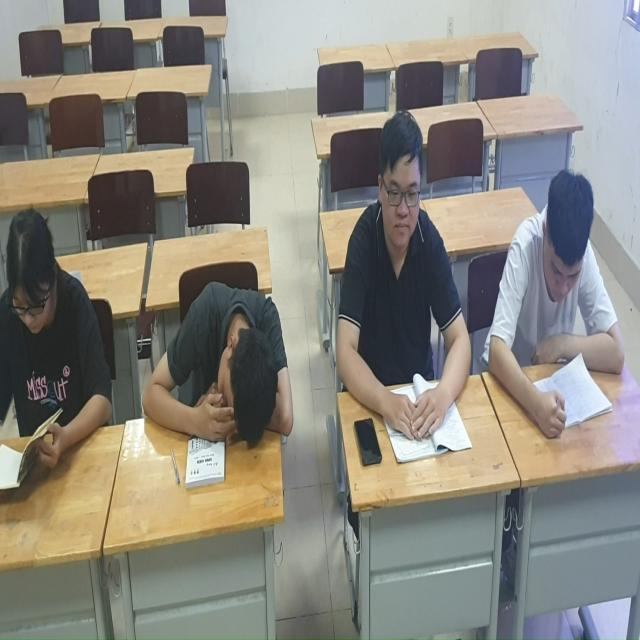sleep: (141, 280, 293, 446)
study: (334, 116, 473, 457), (495, 168, 624, 436), (0, 206, 107, 493)
